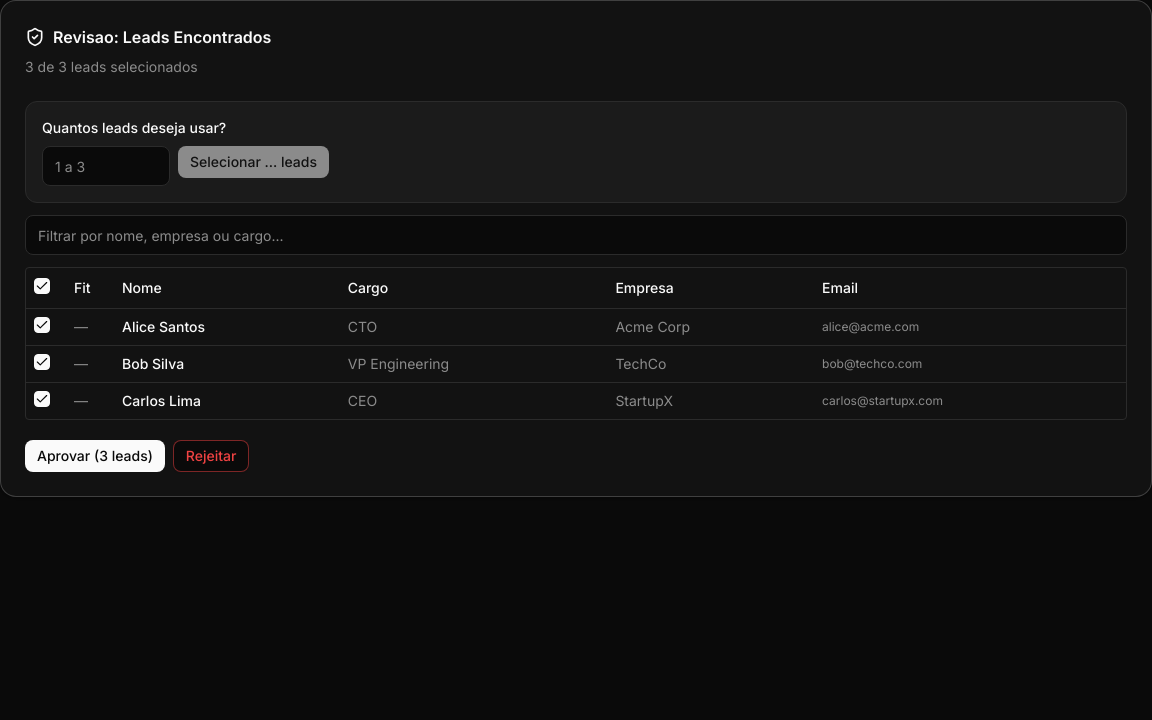
Scenario: AgentLeadReview (AC: #3, #4) › disables approve button when no leads are selected
# Deselect all
What coordinates should you click on to do the following:
click the checkbox named "Selecionar todos"
I would click on:
 (42, 286)
Its box is [34,278,50,294].
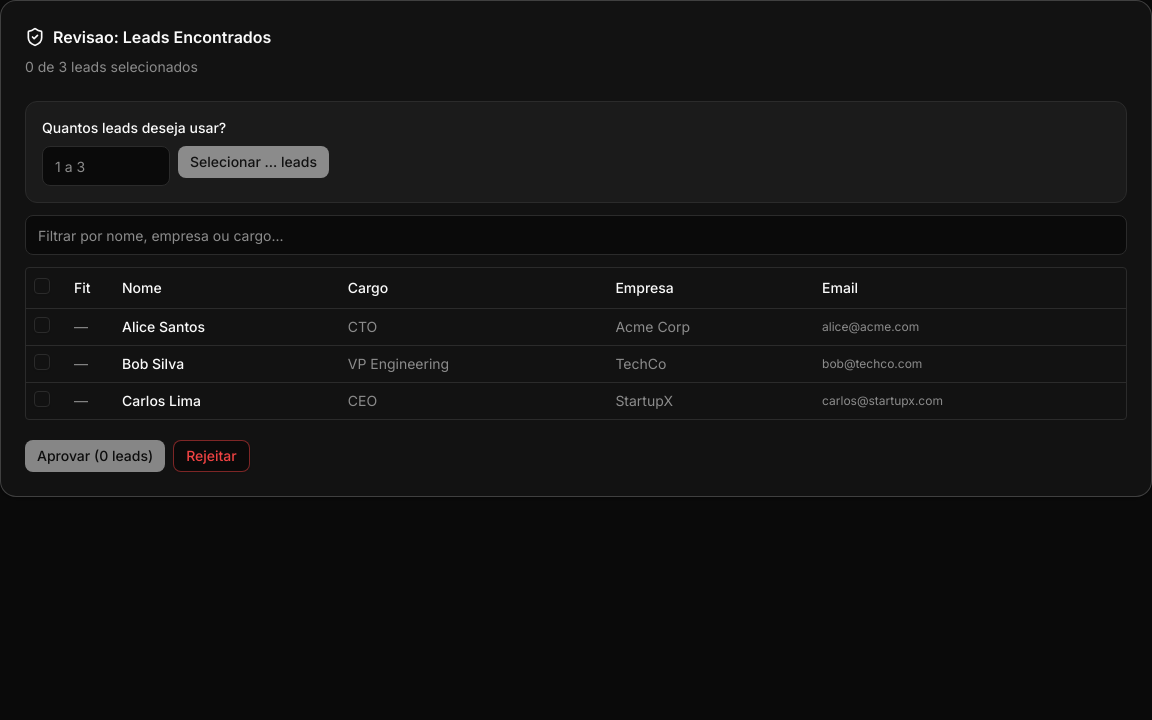
Expected: the button "Aprovar (0 leads)" is disabled, [25,440,165,472]
